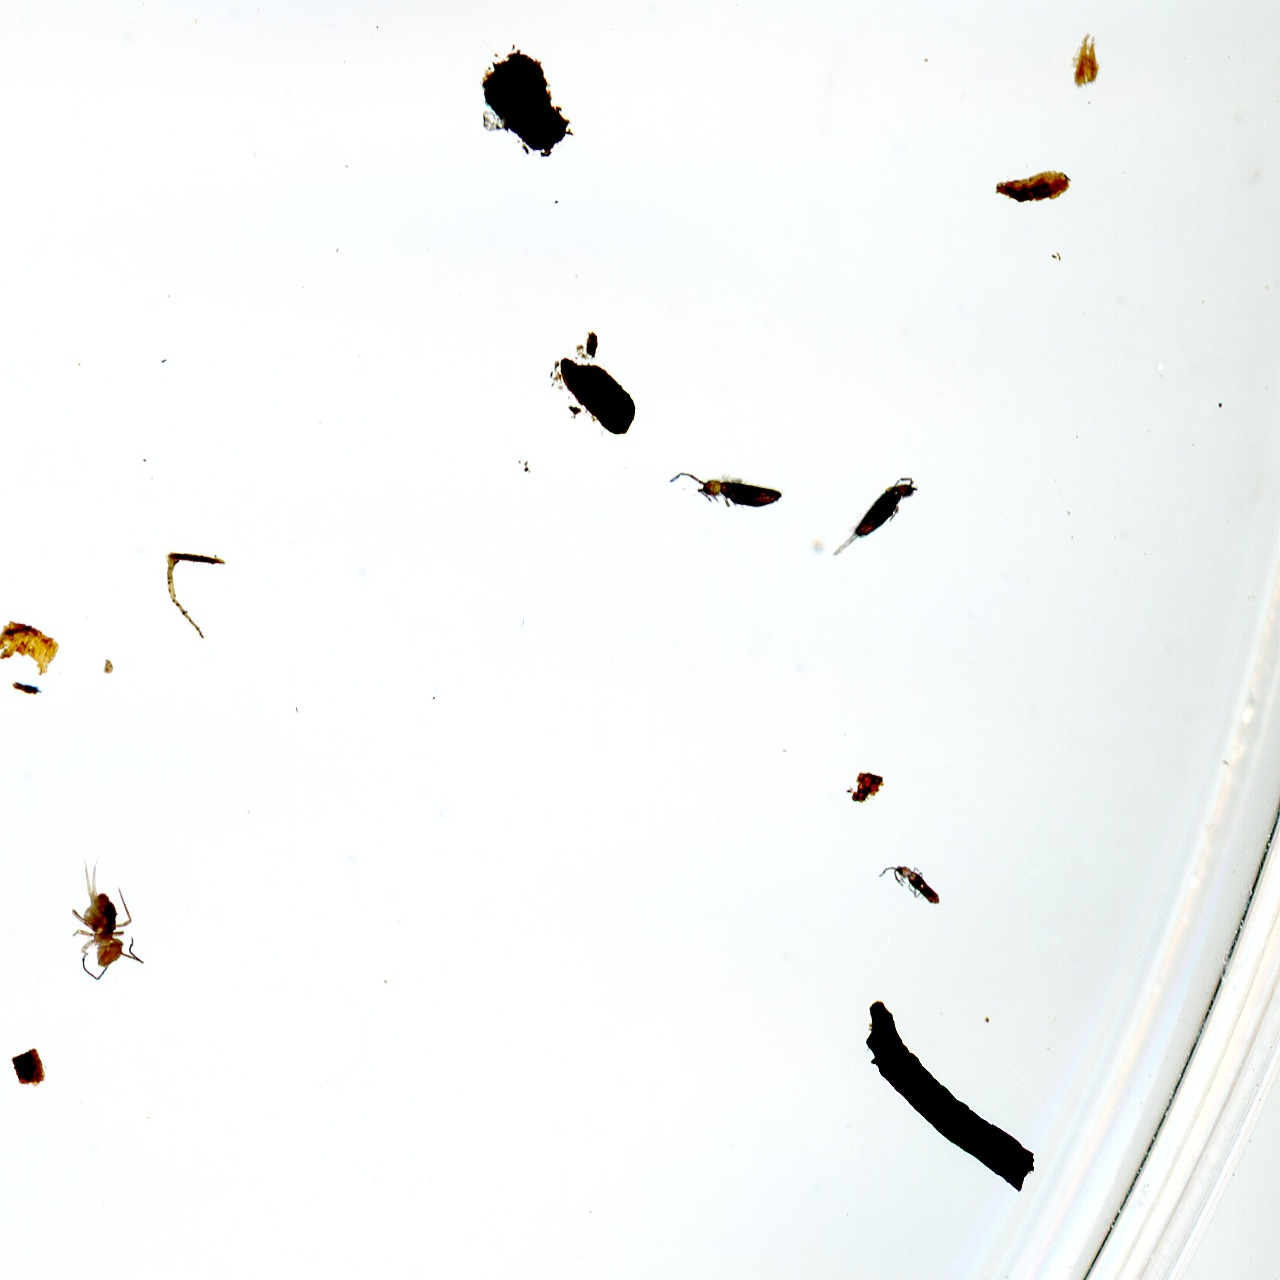arthropod: (816, 460, 930, 577), (66, 851, 142, 979), (872, 845, 956, 926), (665, 468, 794, 513)
